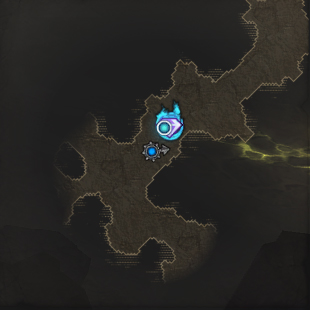Urushi: (155, 103, 185, 141)
